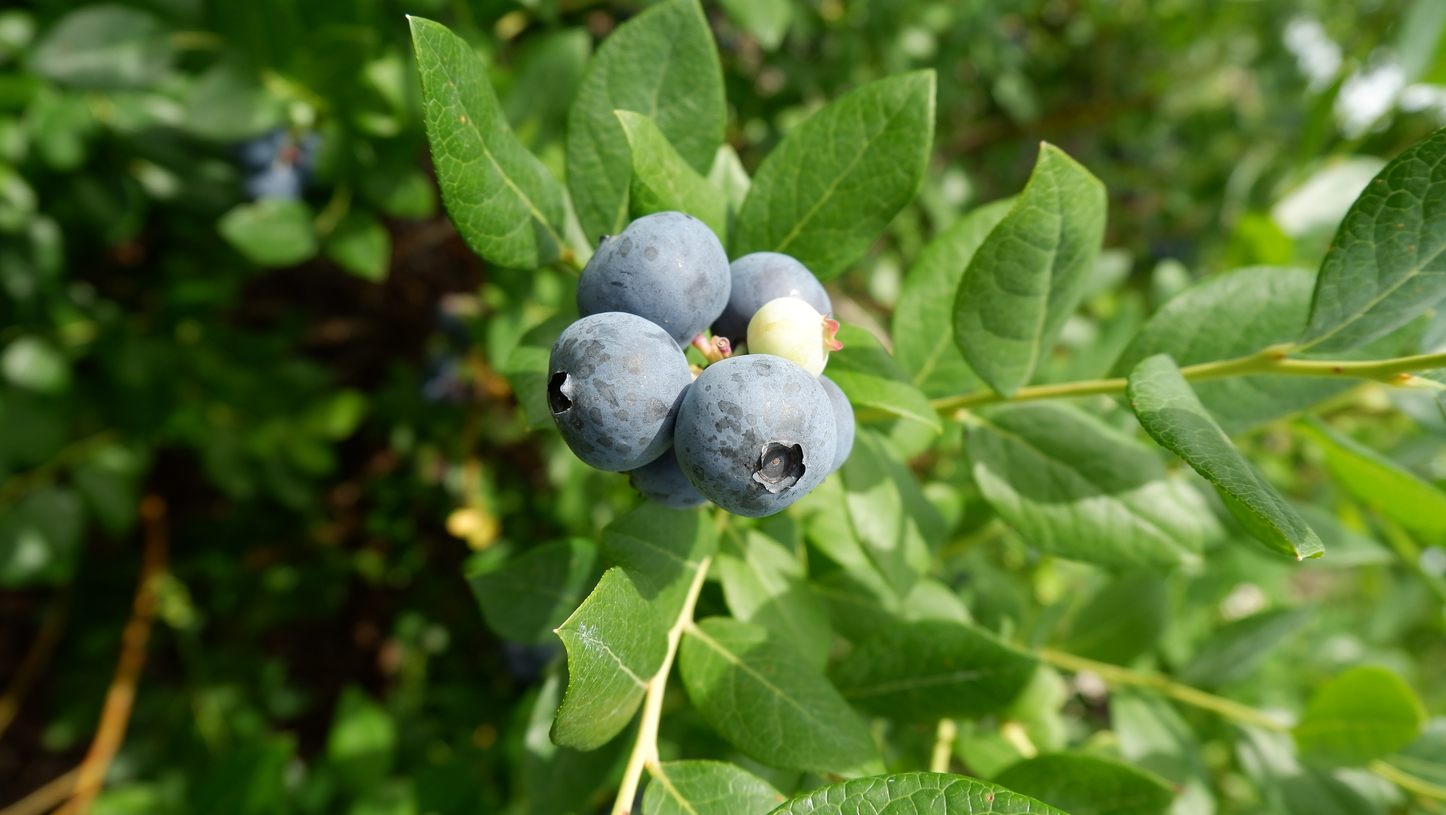Immature: (747, 297, 844, 376)
Mature: (672, 354, 837, 520), (545, 312, 693, 471), (577, 211, 733, 352), (711, 251, 835, 352), (620, 444, 708, 509), (817, 374, 854, 482)
